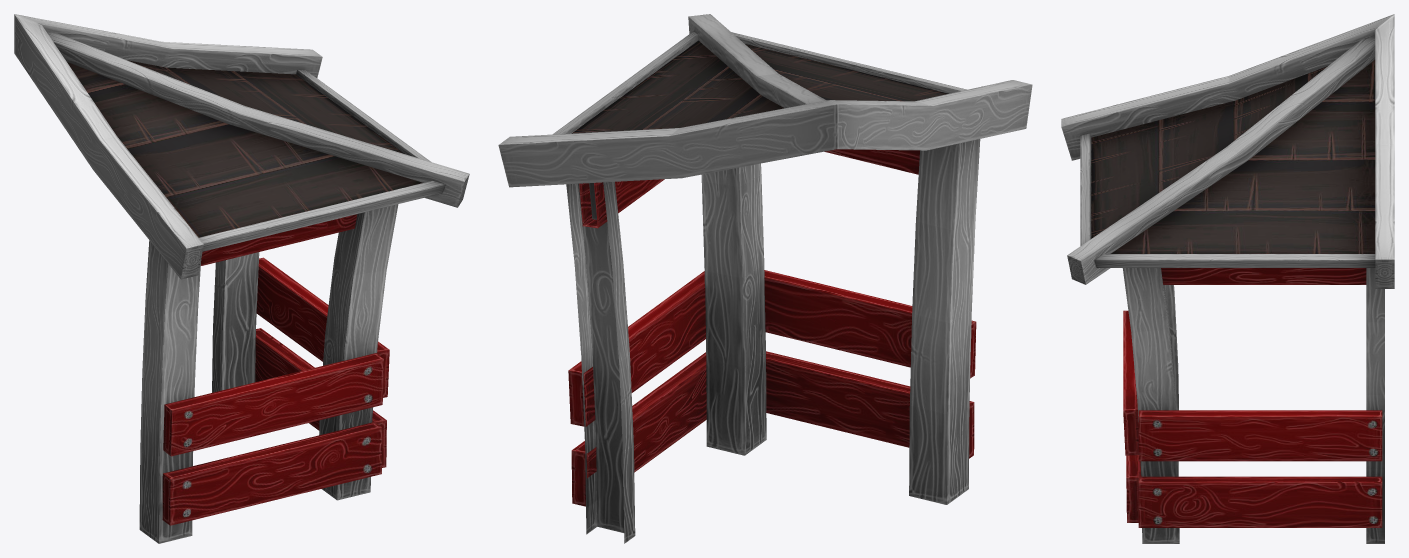
The model's file is Corner_R.fbx.
The picture shows the model from 3 angles, left to right: view 1: azimuth 30°, elevation 25°; view 2: azimuth 150°, elevation 25°; view 3: azimuth 270°, elevation 25°; orthographic projection. The views are drawn at different scales.
Parts seen in each view (by area): view 1: Corner_Out_L.001; view 2: Corner_Out_L.001; view 3: Corner_Out_L.001.
Boxes of the visible parts, x1,y1,x2,y2 form: Corner_Out_L.001: (14, 14, 469, 543); Corner_Out_L.001: (498, 14, 1032, 543); Corner_Out_L.001: (1061, 14, 1394, 543).
Bounding box in the file's own units: 134 × 188 × 134.
